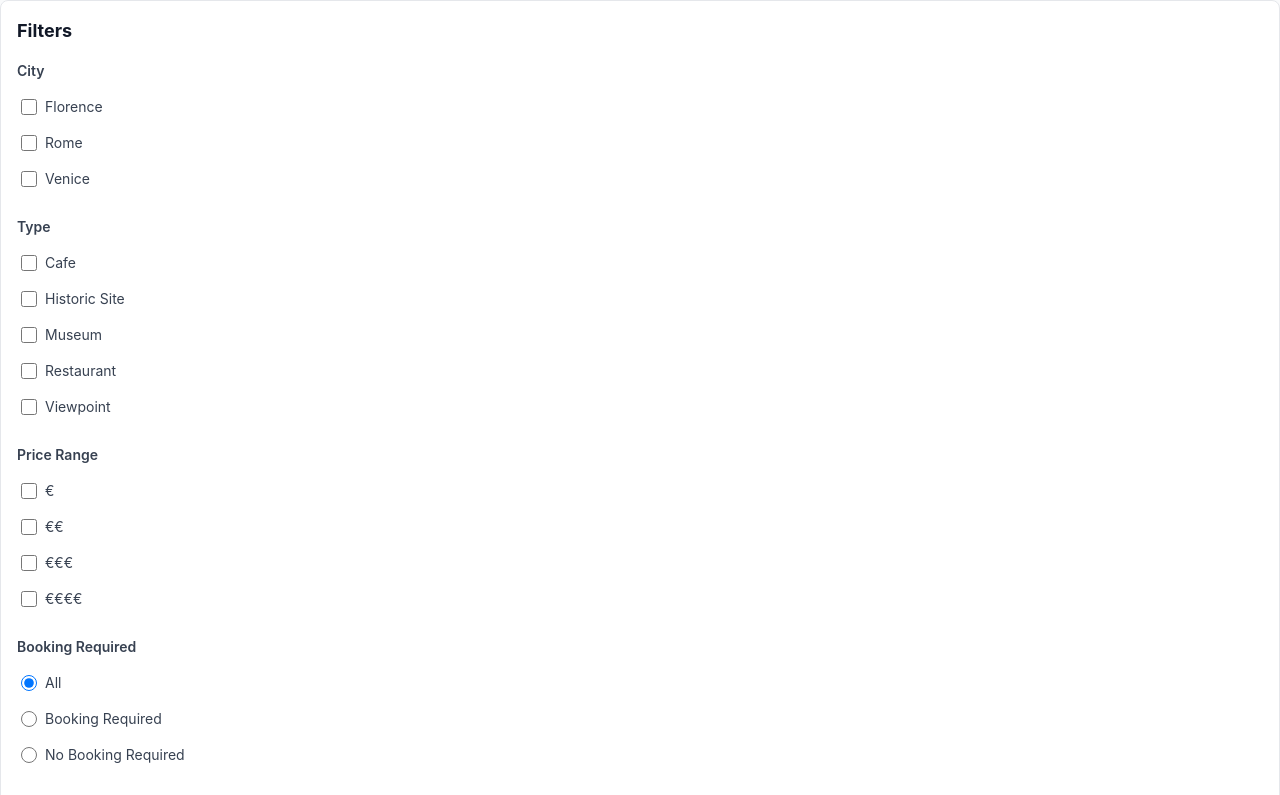
FilterPanel Component › Clear All Functionality › should show empty state message after clearing all
This screenshot has width=1280, height=795.
Click the checkbox named "Filter by Rome": (29, 143) [21,135,37,151]
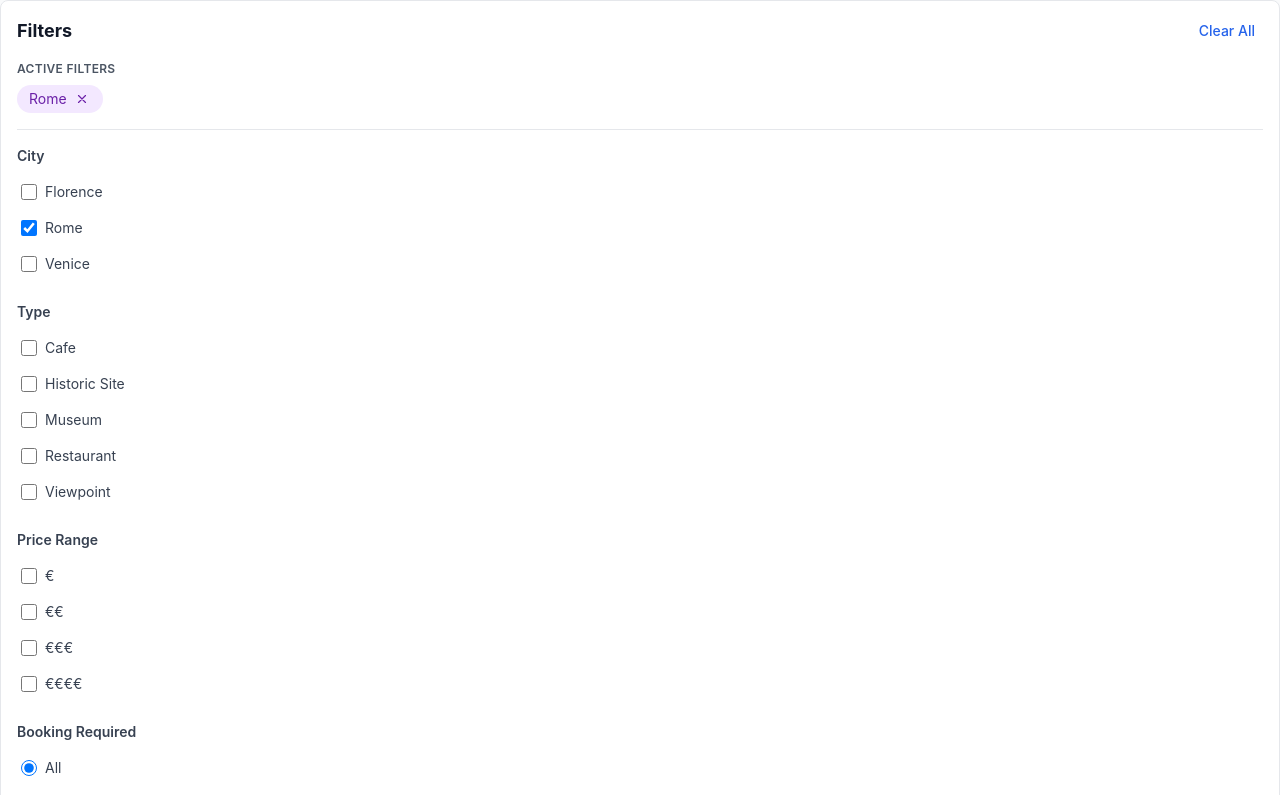
Click the button "Clear All": (1227, 31) [1191,17,1263,45]
(page scrolled)
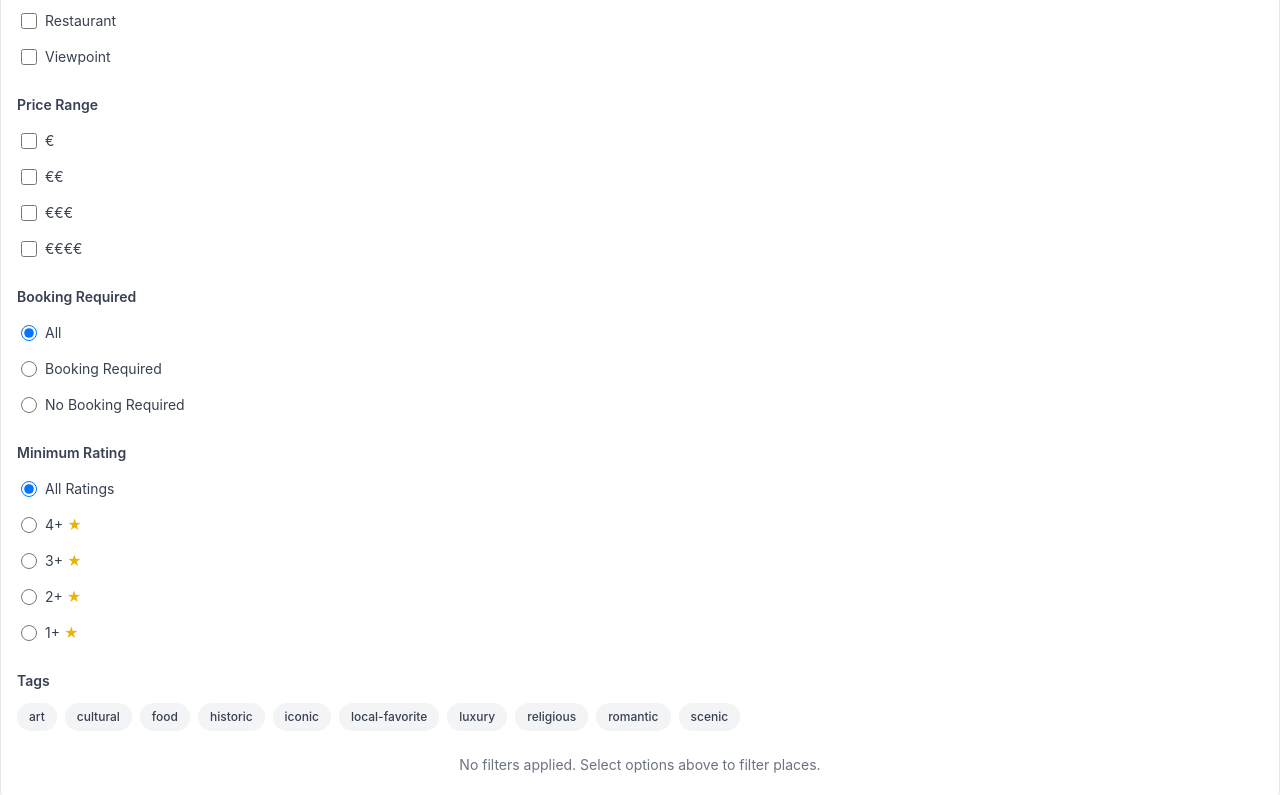
Check: the text "No filters applied. Select options above to filter places." is shown, box [459,756,821,773]
